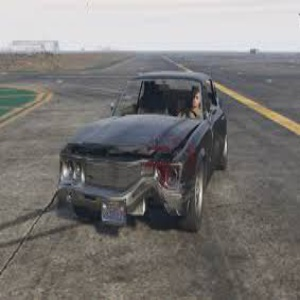bumper: (102, 178, 186, 222)
